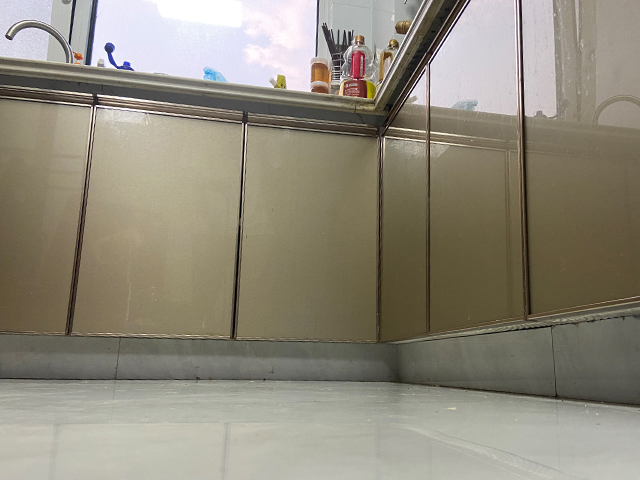cabinet: (1, 59, 386, 382), (377, 9, 640, 409)
